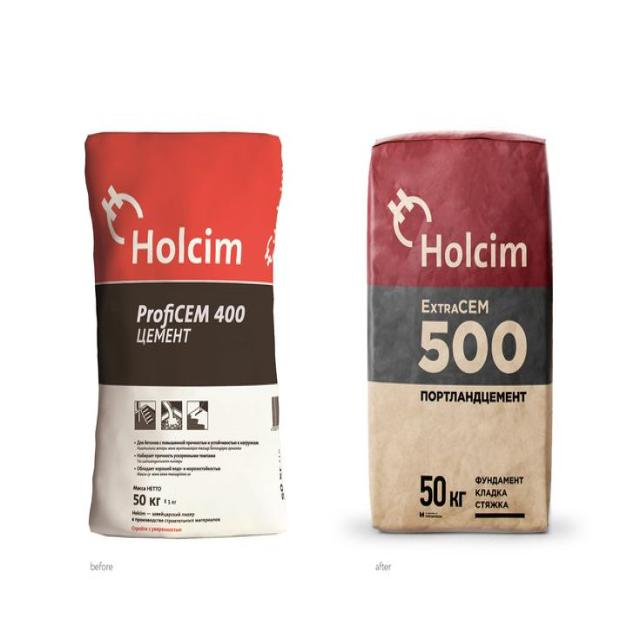KantongSemen: (84, 129, 288, 539), (366, 130, 553, 534)
